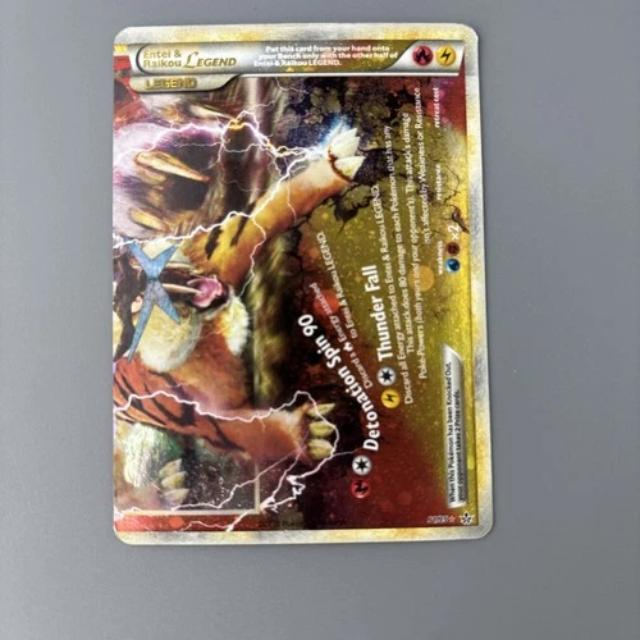Card: (108, 18, 500, 549)
Name: (134, 42, 242, 75)
